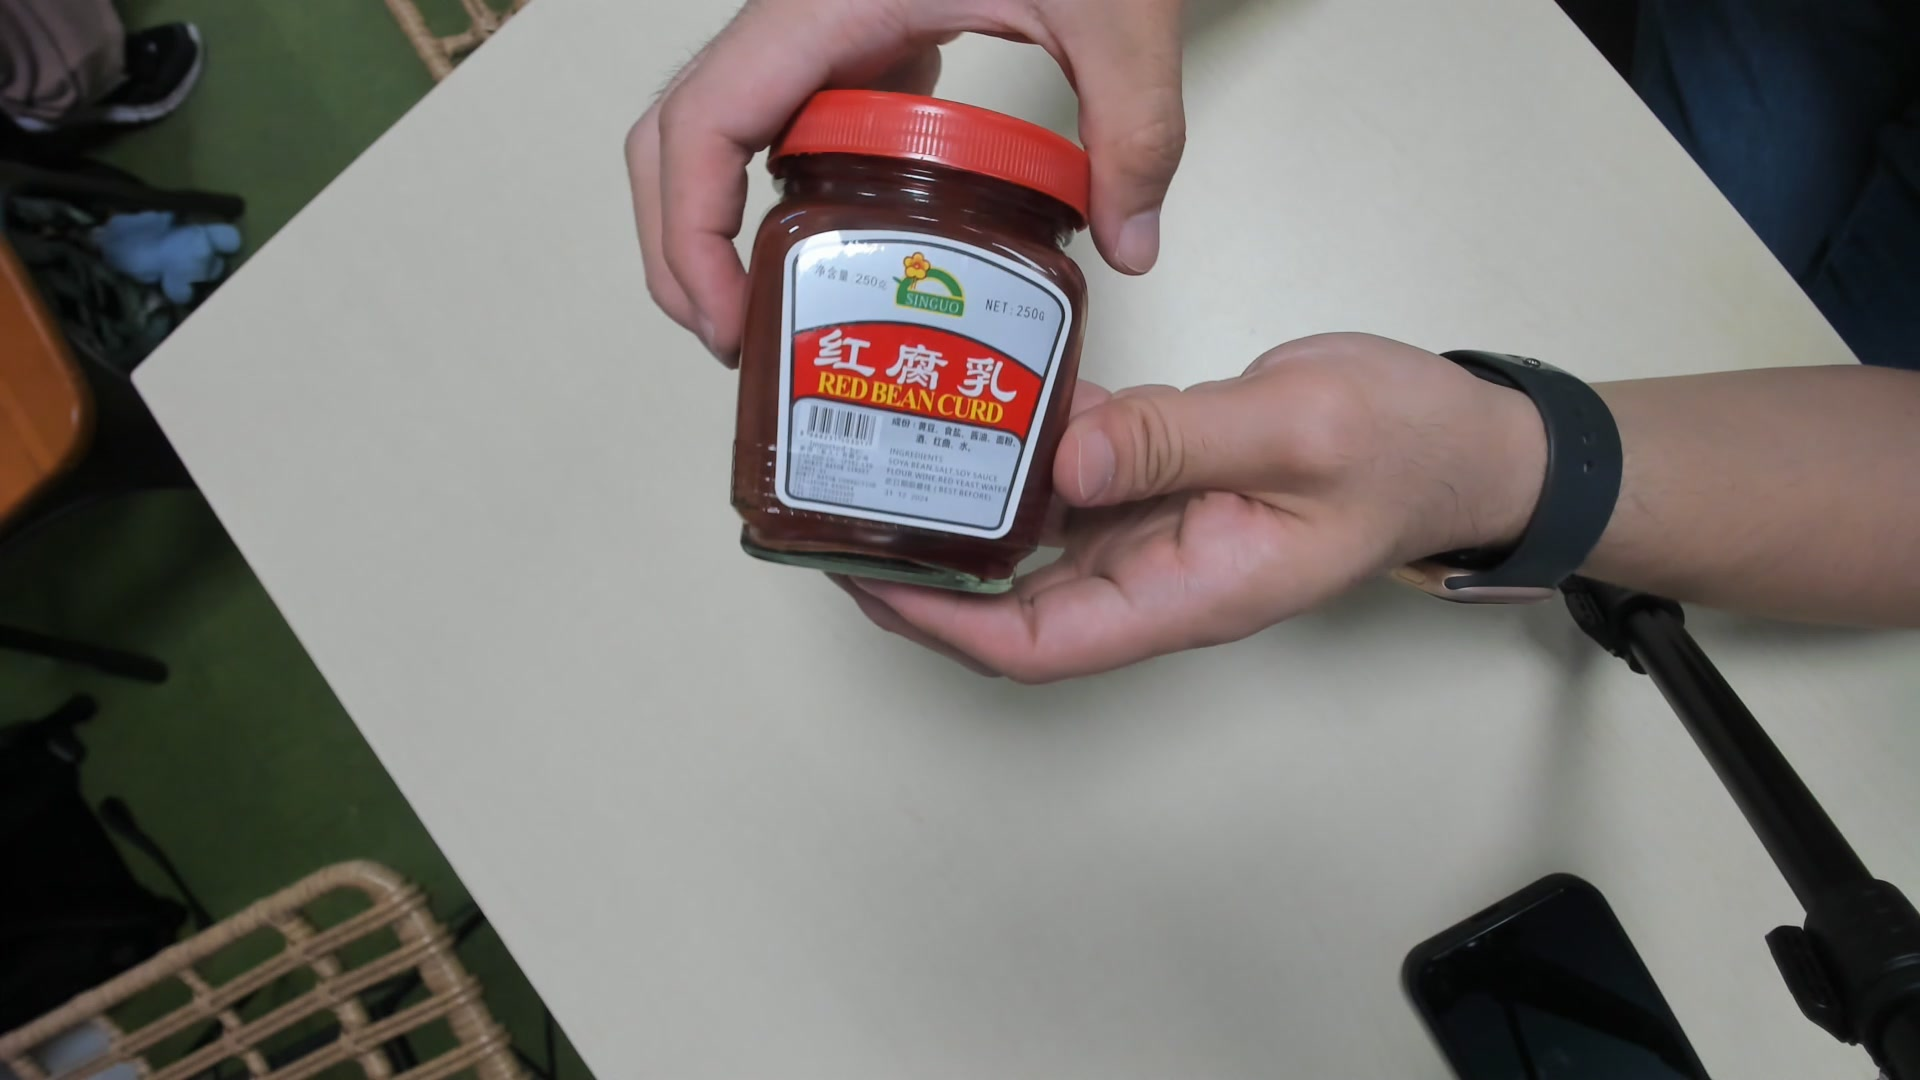OtherSauceDressing_200-299g_NonHalal_NonHealthy: (723, 78, 1092, 603)
